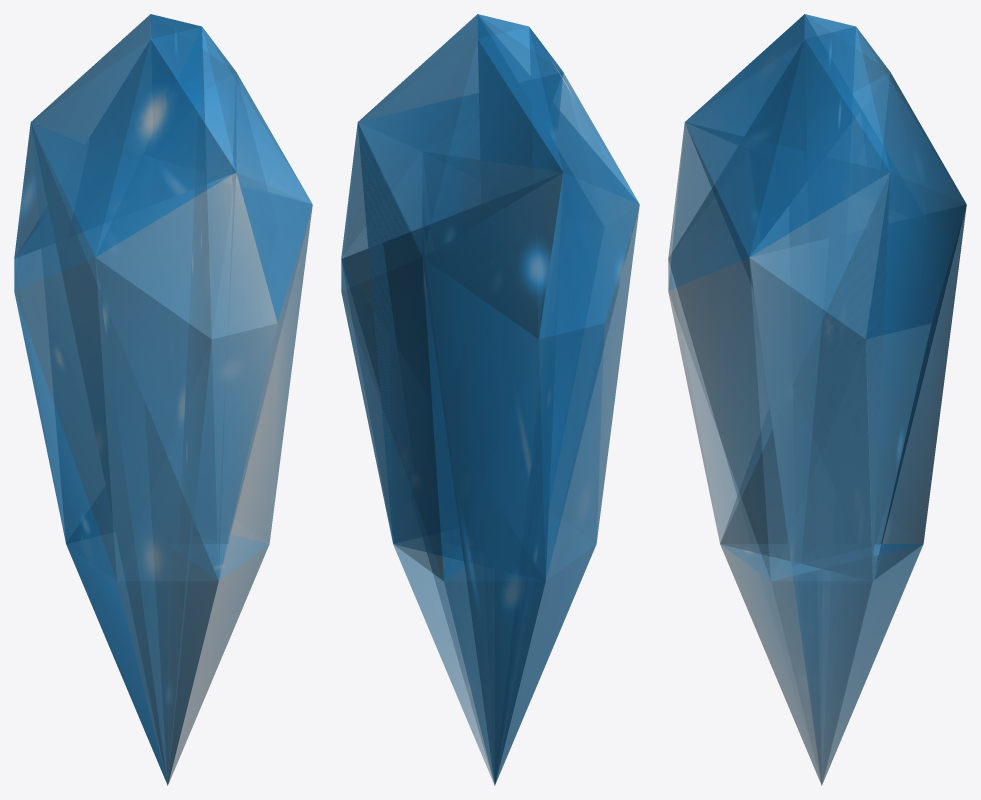
The model's file is icicle.fbx.
The picture shows the model from 3 angles, left to right: view 1: azimuth 30°, elevation 25°; view 2: azimuth 150°, elevation 25°; view 3: azimuth 270°, elevation 25°; orthographic projection.
Visible parts, largest first — view 1: GD_mesh.001; view 2: GD_mesh.001; view 3: GD_mesh.001.
Part boxes in pixels (bbox=[...]): GD_mesh.001: bbox=[14, 14, 312, 785]; GD_mesh.001: bbox=[341, 14, 639, 785]; GD_mesh.001: bbox=[668, 14, 966, 785].
Size of the model in its own units: 45.61 by 126 by 44.78.
1 material, 1 textured.
